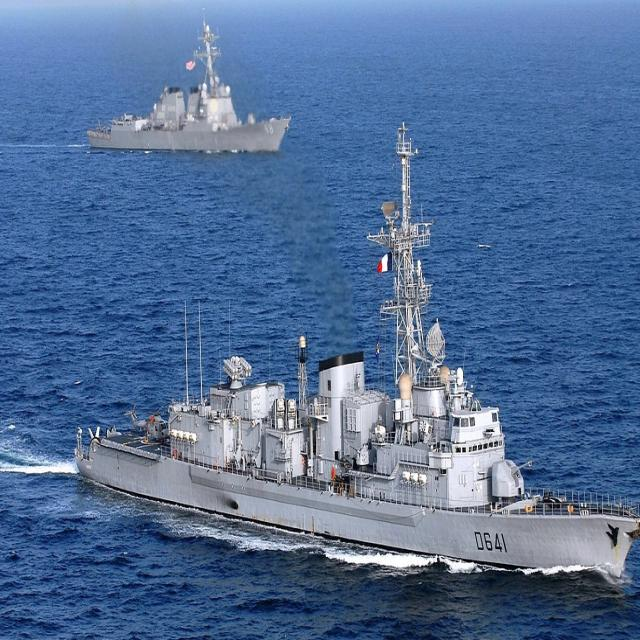navalvessels: (64, 181, 638, 594), (72, 22, 301, 168)
